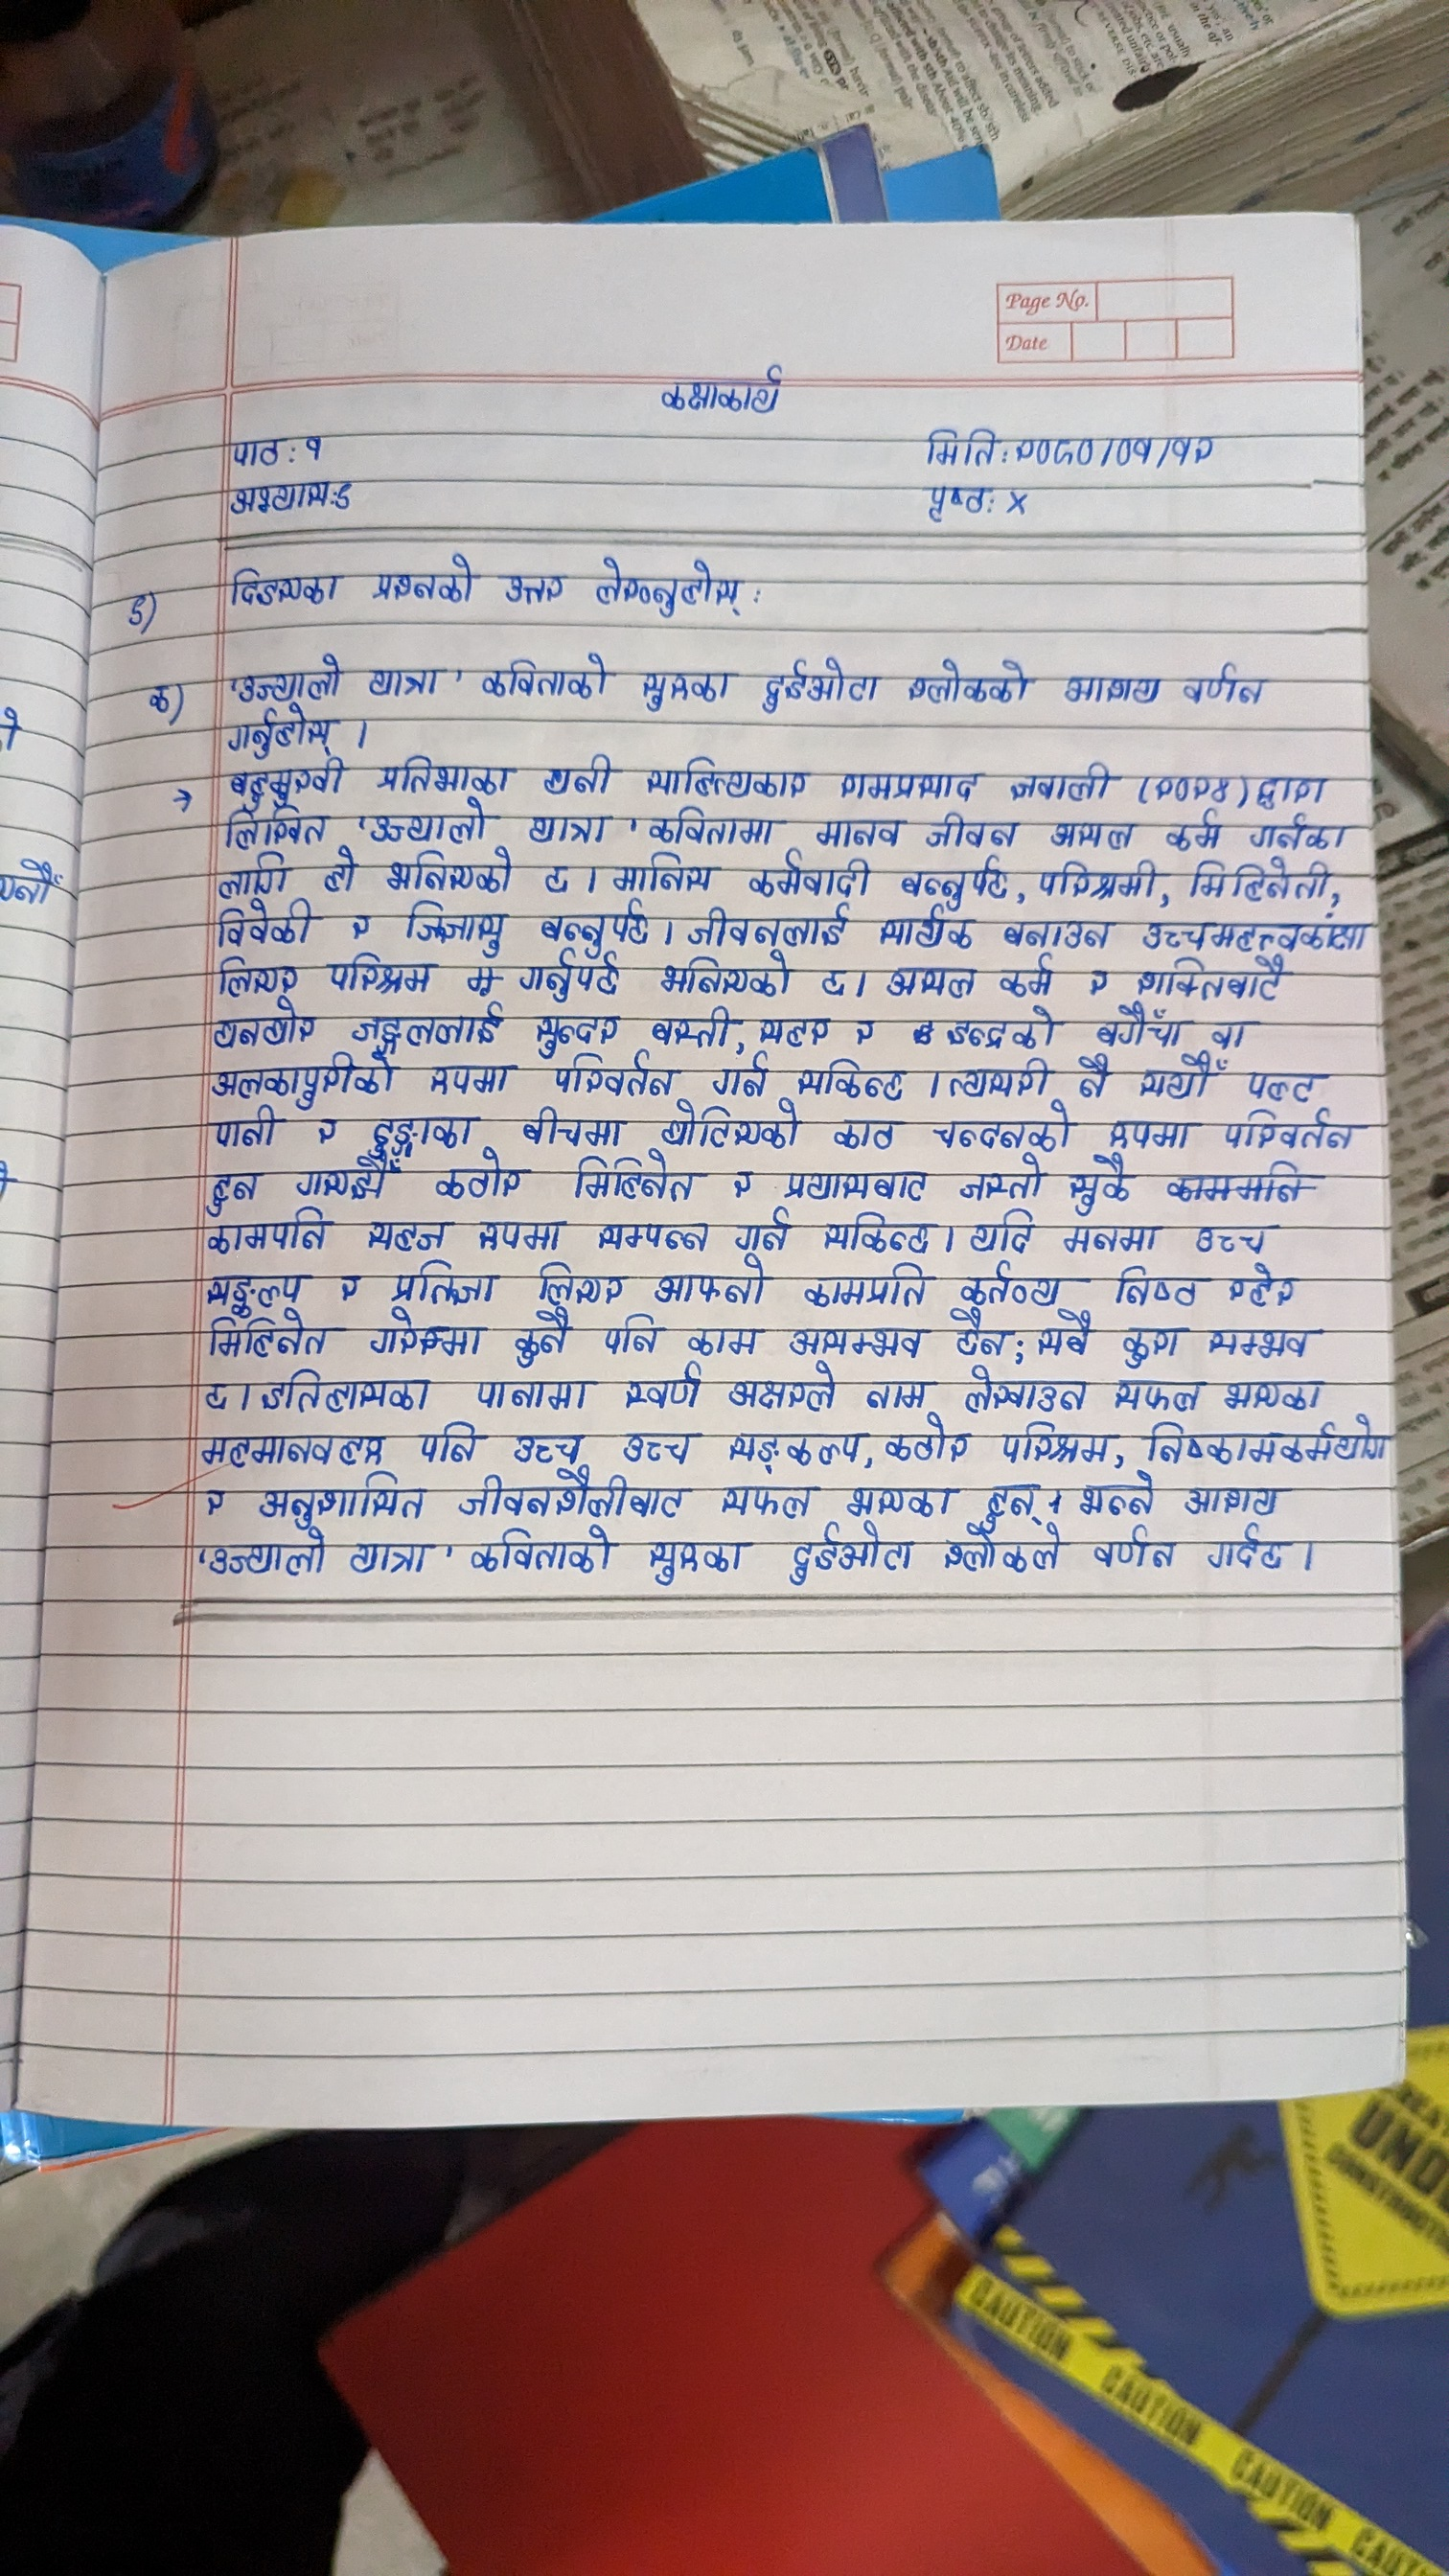text: (462, 1470, 685, 1525), (653, 347, 794, 428), (596, 547, 740, 617), (1141, 908, 1364, 952), (1146, 1421, 1387, 1461), (262, 1470, 423, 1527), (904, 646, 1039, 711), (212, 1054, 395, 1100), (637, 754, 810, 801), (467, 1527, 617, 1582), (257, 1369, 435, 1414), (663, 950, 801, 1007), (791, 1523, 915, 1585), (1132, 955, 1290, 1003), (350, 1003, 504, 1051), (688, 904, 853, 948), (750, 655, 878, 711), (483, 648, 609, 704), (725, 1419, 867, 1468), (934, 1106, 1079, 1154), (741, 849, 878, 899), (1178, 649, 1277, 715), (239, 642, 349, 701), (372, 548, 478, 609), (375, 750, 513, 796), (651, 1104, 800, 1146), (198, 1433, 386, 1467), (209, 1530, 327, 1583), (363, 798, 488, 847), (964, 1366, 1086, 1415), (1187, 858, 1329, 901), (1162, 1161, 1309, 1201), (545, 1054, 679, 1099), (832, 764, 982, 803), (777, 1166, 934, 1203), (1221, 1109, 1364, 1150), (520, 952, 630, 1005), (936, 1530, 1067, 1575), (202, 1215, 331, 1260), (819, 1210, 934, 1260), (936, 1003, 1058, 1049), (226, 708, 340, 757), (651, 1260, 768, 1307), (1001, 761, 1113, 810), (570, 1159, 699, 1201), (587, 1210, 715, 1253), (379, 853, 511, 893), (386, 1260, 502, 1306), (640, 1537, 745, 1589), (223, 761, 349, 803), (1033, 860, 1164, 901), (202, 1318, 331, 1359), (543, 902, 656, 948), (787, 1058, 909, 1100), (212, 899, 317, 948), (640, 803, 773, 842), (209, 1001, 320, 1047), (366, 1315, 478, 1361), (805, 1263, 925, 1306), (400, 902, 504, 950), (225, 566, 347, 607), (471, 1375, 593, 1415), (290, 1159, 407, 1201), (994, 1421, 1111, 1463), (1205, 1320, 1325, 1361), (212, 809, 329, 849), (901, 862, 1017, 902), (731, 1368, 842, 1410), (366, 1109, 476, 1152), (945, 1054, 1049, 1099), (536, 743, 617, 800), (959, 1263, 1067, 1306), (1219, 1371, 1330, 1412), (605, 853, 711, 895), (1003, 913, 1118, 952), (789, 1325, 922, 1359), (1182, 1481, 1295, 1520), (637, 662, 725, 711), (198, 1272, 310, 1311), (326, 954, 432, 994), (1065, 1154, 1141, 1210), (1138, 1054, 1224, 1104), (218, 478, 329, 515), (1249, 812, 1346, 855), (520, 1109, 630, 1146), (1060, 671, 1164, 709), (881, 957, 980, 998), (874, 906, 971, 947), (525, 1010, 623, 1051), (847, 1481, 948, 1520), (1093, 1530, 1182, 1575), (915, 428, 996, 476), (957, 1155, 1047, 1198), (885, 1422, 975, 1465), (646, 1008, 734, 1051), (1113, 1267, 1201, 1309), (469, 1214, 570, 1251), (1253, 764, 1334, 810), (964, 1208, 1039, 1258), (205, 1102, 285, 1148), (1093, 1005, 1187, 1044), (435, 1161, 520, 1203), (929, 812, 1017, 853), (534, 1267, 626, 1306), (1072, 1476, 1164, 1514), (616, 1366, 702, 1407), (1224, 1261, 1300, 1307), (1010, 426, 1099, 465), (1187, 1221, 1279, 1258), (711, 1486, 817, 1518), (1210, 1527, 1290, 1569), (1046, 816, 1136, 853), (499, 566, 571, 612), (1060, 1223, 1159, 1256), (1109, 1376, 1201, 1412), (211, 853, 290, 893), (816, 807, 899, 846), (364, 1214, 448, 1253), (209, 961, 299, 996), (510, 1315, 573, 1364), (1148, 771, 1237, 807), (425, 1062, 513, 1097), (925, 479, 994, 524), (1120, 1320, 1189, 1364), (996, 952, 1060, 1000), (515, 814, 605, 847), (1033, 1313, 1099, 1359), (343, 1537, 428, 1573), (1237, 1069, 1325, 1102), (686, 1320, 763, 1359), (945, 1313, 1008, 1359), (1108, 1113, 1189, 1148), (978, 1481, 1040, 1527), (1169, 419, 1223, 472), (623, 1428, 699, 1463), (364, 660, 433, 699), (506, 1431, 586, 1465), (711, 1056, 771, 1100), (830, 1115, 901, 1152), (225, 432, 292, 471), (856, 1378, 938, 1410), (113, 586, 166, 633), (602, 1315, 663, 1355), (416, 1422, 478, 1463), (202, 1168, 258, 1212), (1166, 809, 1221, 853), (736, 1212, 796, 1251), (761, 1014, 832, 1046), (1115, 421, 1159, 471), (534, 856, 579, 902), (333, 474, 375, 518), (133, 683, 186, 718), (720, 1164, 761, 1205), (1072, 1058, 1111, 1100), (200, 1376, 235, 1421), (320, 855, 357, 895), (1205, 1019, 1256, 1047), (304, 1113, 345, 1148), (844, 1014, 883, 1047), (816, 964, 853, 996), (299, 435, 334, 465), (1085, 964, 1120, 994), (336, 1267, 364, 1304), (343, 909, 377, 939), (202, 1486, 232, 1520)
